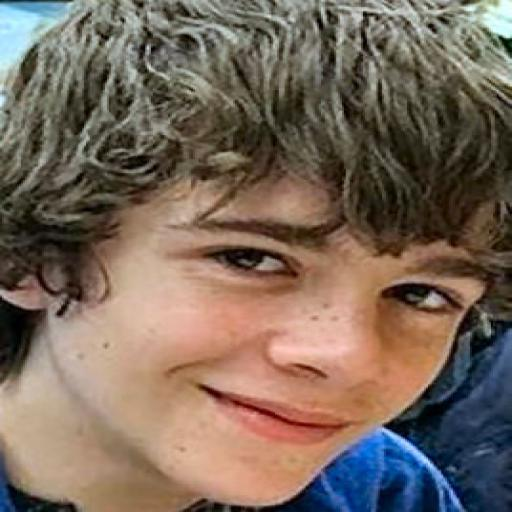Autism: (17, 7, 510, 512)
